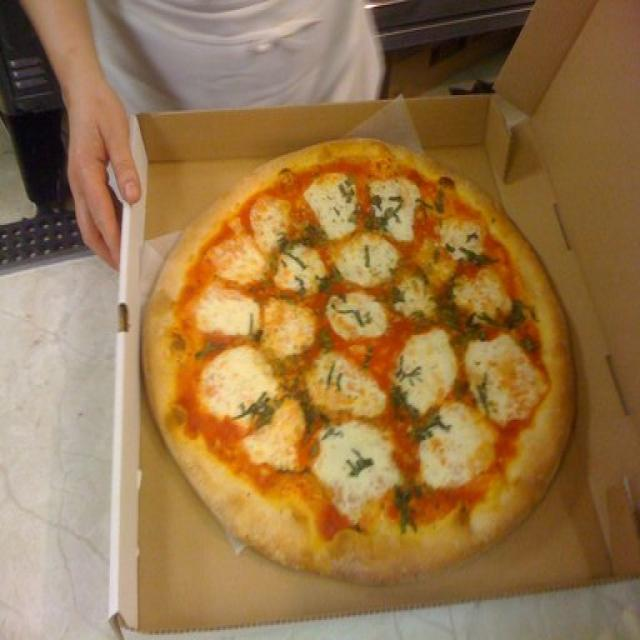Cheese: (318, 421, 394, 510), (471, 341, 545, 416), (424, 418, 496, 484), (309, 354, 386, 414), (199, 349, 274, 404), (406, 332, 455, 398), (332, 239, 400, 285), (193, 288, 259, 333), (219, 234, 270, 286), (258, 401, 300, 464), (370, 181, 415, 239), (328, 298, 388, 340), (274, 245, 327, 292), (268, 302, 314, 356), (310, 174, 350, 233), (256, 194, 292, 246), (455, 281, 509, 313), (438, 220, 486, 251), (400, 284, 433, 316)
Pizza: (144, 140, 574, 582)
